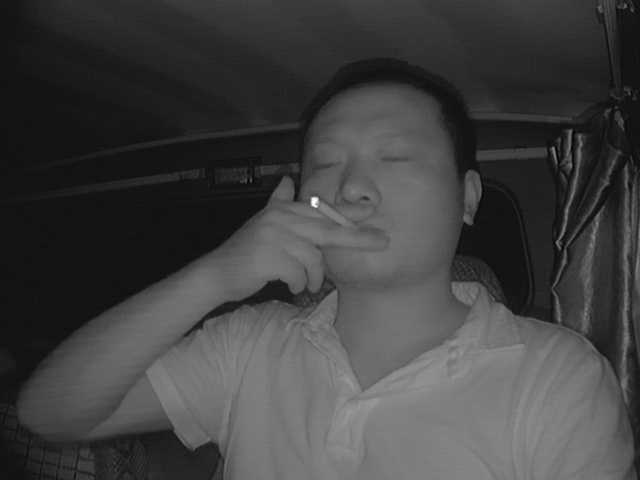hand: (268, 191, 372, 301)
